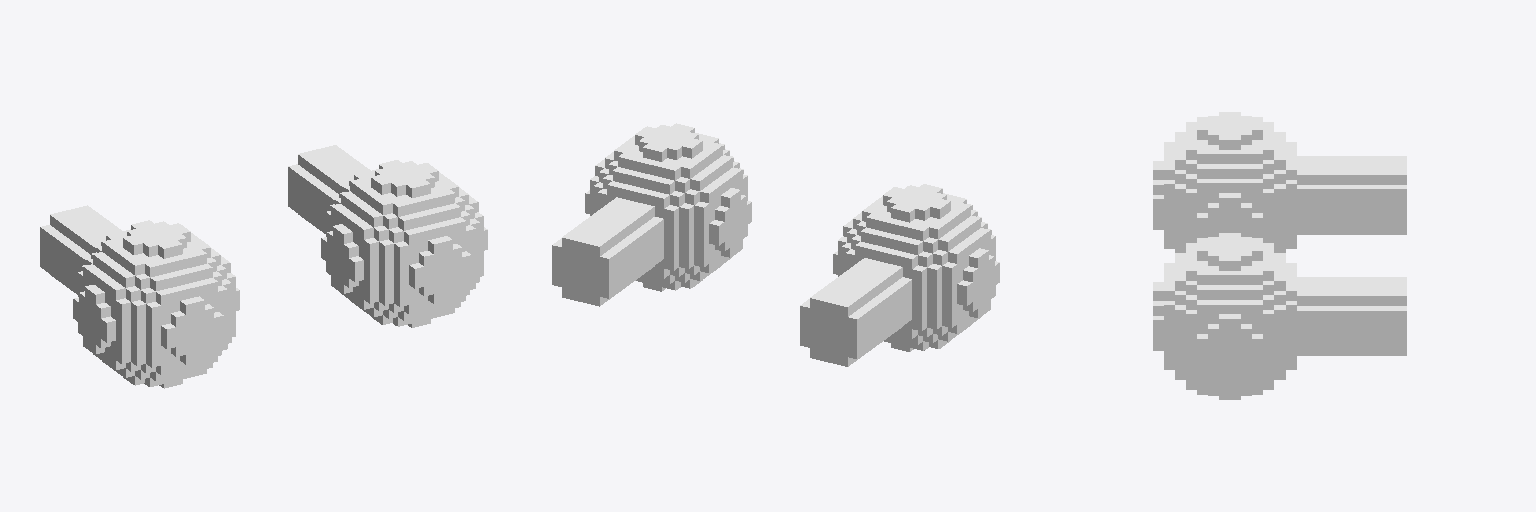
Rendered from arms3.obj.
The picture shows the model from 3 angles: view 1: azimuth 30°, elevation 25°; view 2: azimuth 150°, elevation 25°; view 3: azimuth 270°, elevation 25°; orthographic projection.
Parts seen in each view (by area): view 1: object 1; view 2: object 1; view 3: object 1.
Boxes of the visible parts, x1=… form: object 1: x1=40, y1=145, x2=487, y2=388; object 1: x1=552, y1=123, x2=999, y2=366; object 1: x1=1153, y1=112, x2=1406, y2=399.
Bounding box in the file's own units: 4 × 1.4 × 2.3.